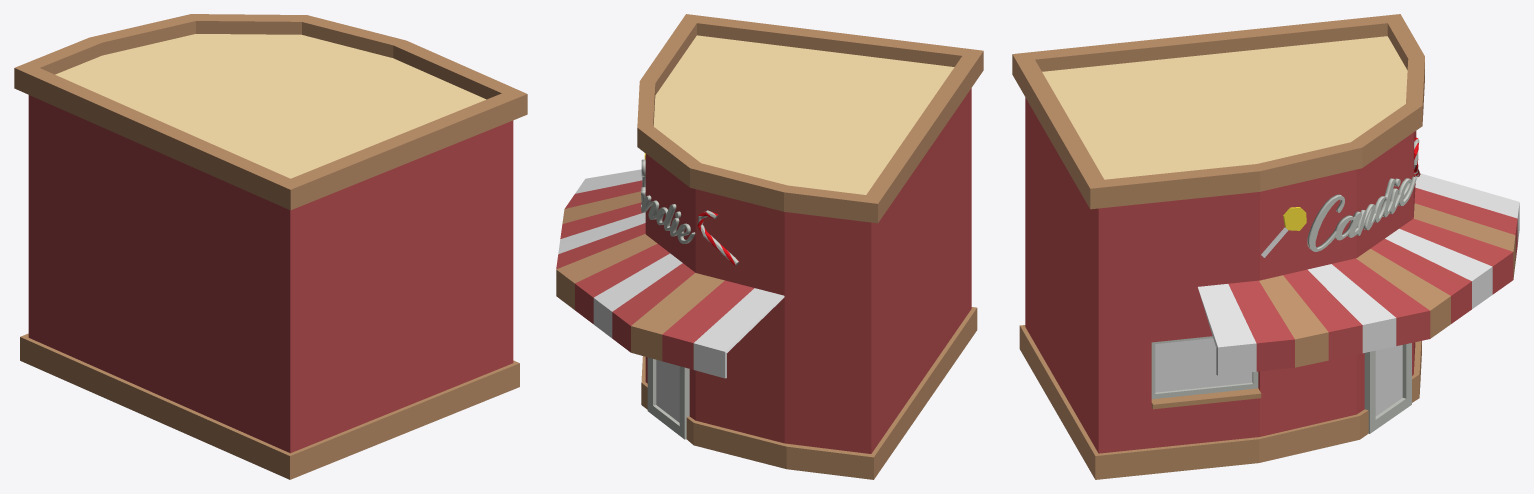
The model's file is Candy.fbx.
3 views of the same model, side by side, from view 1: azimuth 30°, elevation 25°; view 2: azimuth 150°, elevation 25°; view 3: azimuth 270°, elevation 25° (orthographic). The views are drawn at different scales.
Visible parts, largest first — view 1: Candy Store; view 2: Candy Store; view 3: Candy Store.
Part boxes in pixels (<box>): Candy Store: <box>14,14,527,479</box>; Candy Store: <box>556,14,983,479</box>; Candy Store: <box>1012,14,1519,479</box>.
Size of the model in its own units: 1719 by 1885 by 1204.
